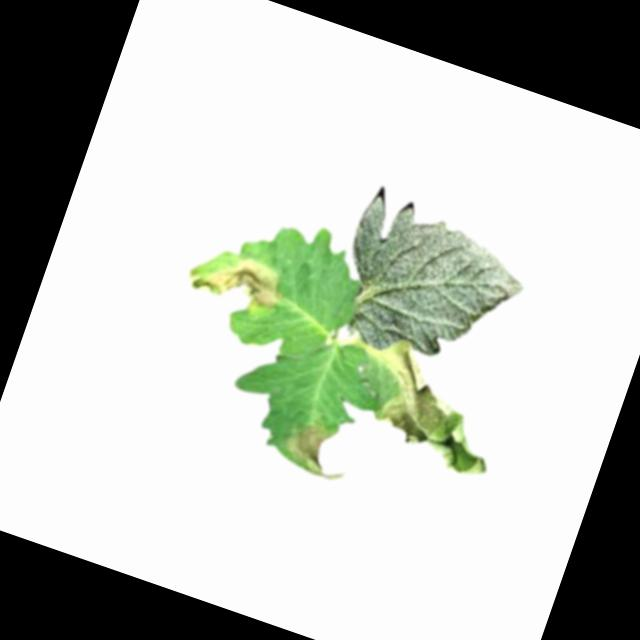Late_blight: (324, 321, 520, 483), (182, 236, 294, 317), (278, 417, 359, 486)
healthy: (322, 188, 540, 385)
